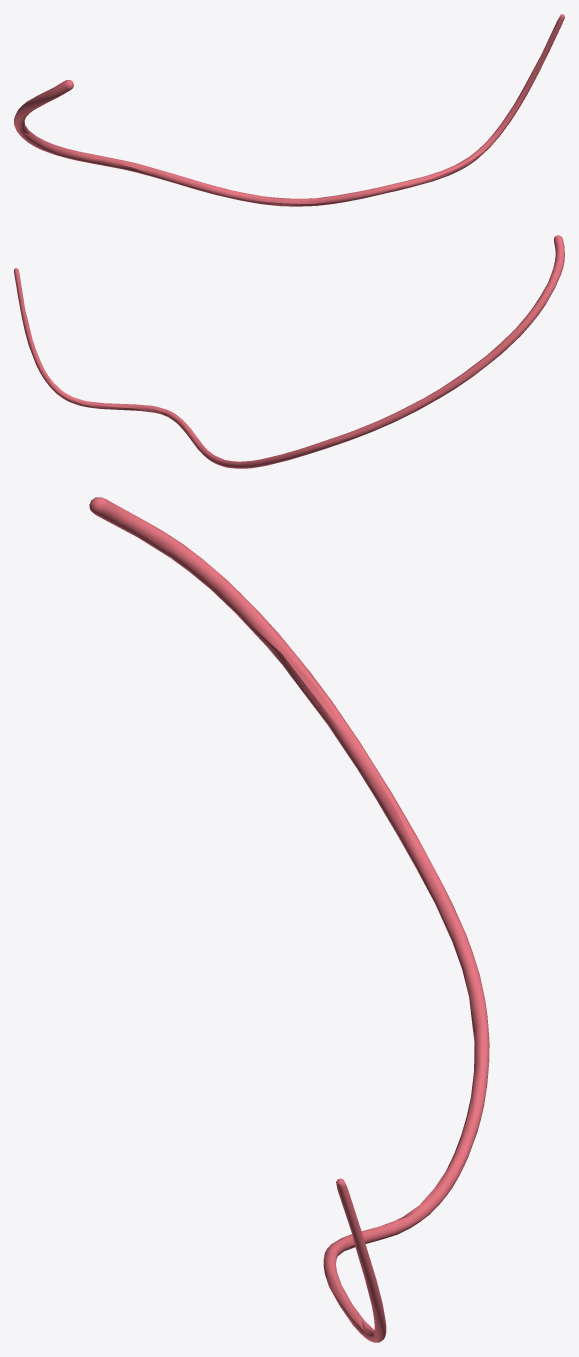
File: fma50693_fj5142m.glb
3 renders of one model, top to bottom at view 1: azimuth 30°, elevation 25°; view 2: azimuth 150°, elevation 25°; view 3: azimuth 270°, elevation 25°, orthographic. The views are drawn at different scales.
Parts seen in each view (by area): view 1: FMA50693_FJ5142M; view 2: FMA50693_FJ5142M; view 3: FMA50693_FJ5142M.
Boxes of the visible parts, x1=… form: FMA50693_FJ5142M: x1=14, y1=14, x2=564, y2=206; FMA50693_FJ5142M: x1=14, y1=235, x2=564, y2=468; FMA50693_FJ5142M: x1=89, y1=497, x2=489, y2=1342.
Size of the model in its own units: 0.0526 by 0.0232 by 0.0182.
